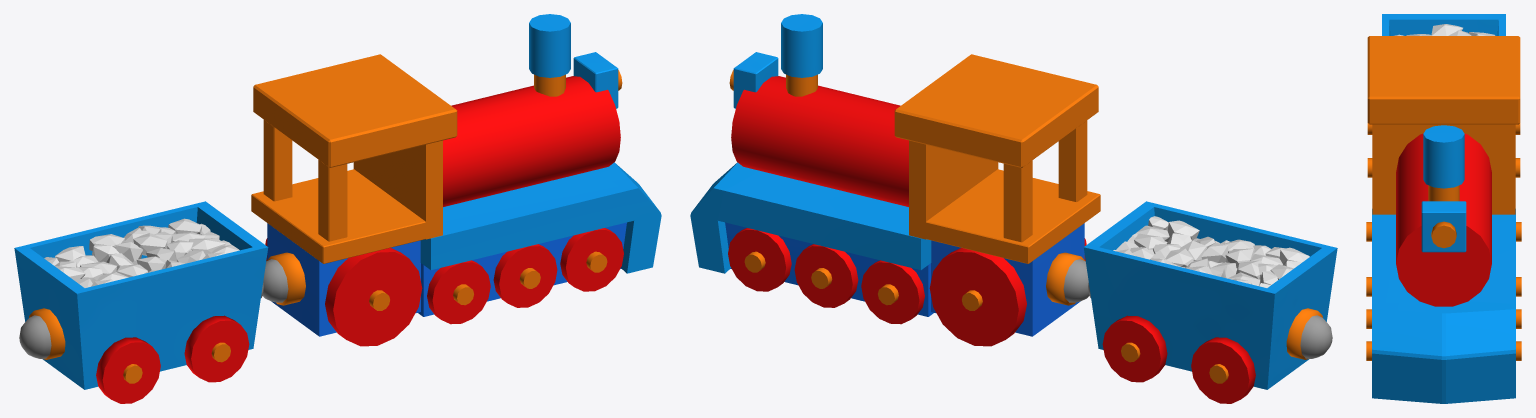
Rendered from ChooChooTrain.fbx.
3 renders of one model, left to right at view 1: azimuth 30°, elevation 25°; view 2: azimuth 150°, elevation 25°; view 3: azimuth 270°, elevation 25°, orthographic.
Visible parts, largest first — view 1: Engine, CoalCart, Coal, Connectors, Connector; view 2: Engine, CoalCart, Coal, Connectors, Connector; view 3: Engine, CoalCart, Coal.
Boxes of the visible parts, bbox=[...] form: Engine: bbox=[251, 14, 661, 346]; CoalCart: bbox=[14, 201, 268, 403]; Coal: bbox=[44, 218, 239, 287]; Connectors: bbox=[19, 283, 263, 358]; Connector: bbox=[262, 259, 288, 302]; Engine: bbox=[690, 14, 1100, 346]; CoalCart: bbox=[1083, 201, 1337, 403]; Coal: bbox=[1113, 216, 1309, 287]; Connectors: bbox=[1088, 283, 1332, 358]; Connector: bbox=[1063, 259, 1089, 302]; Engine: bbox=[1366, 36, 1521, 403]; CoalCart: bbox=[1367, 14, 1520, 177]; Coal: bbox=[1394, 24, 1495, 35].
Bounding box in the file's own units: 8.32 × 3.18 × 1.83.
